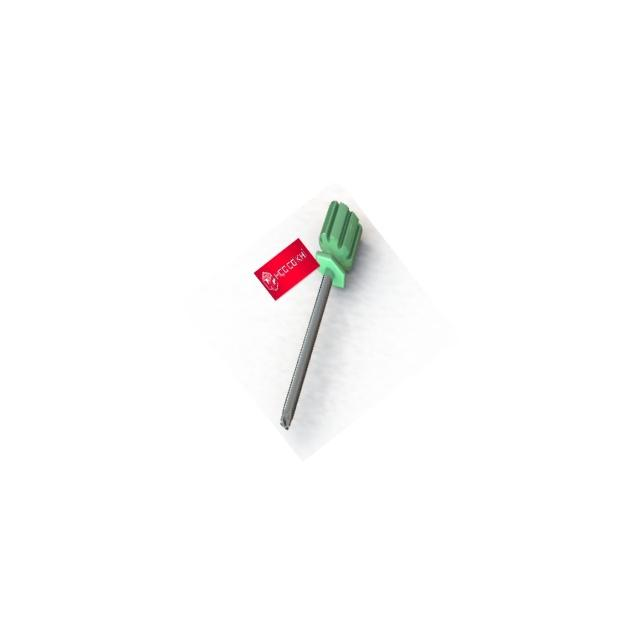screwdriver: (190, 192, 437, 432)
